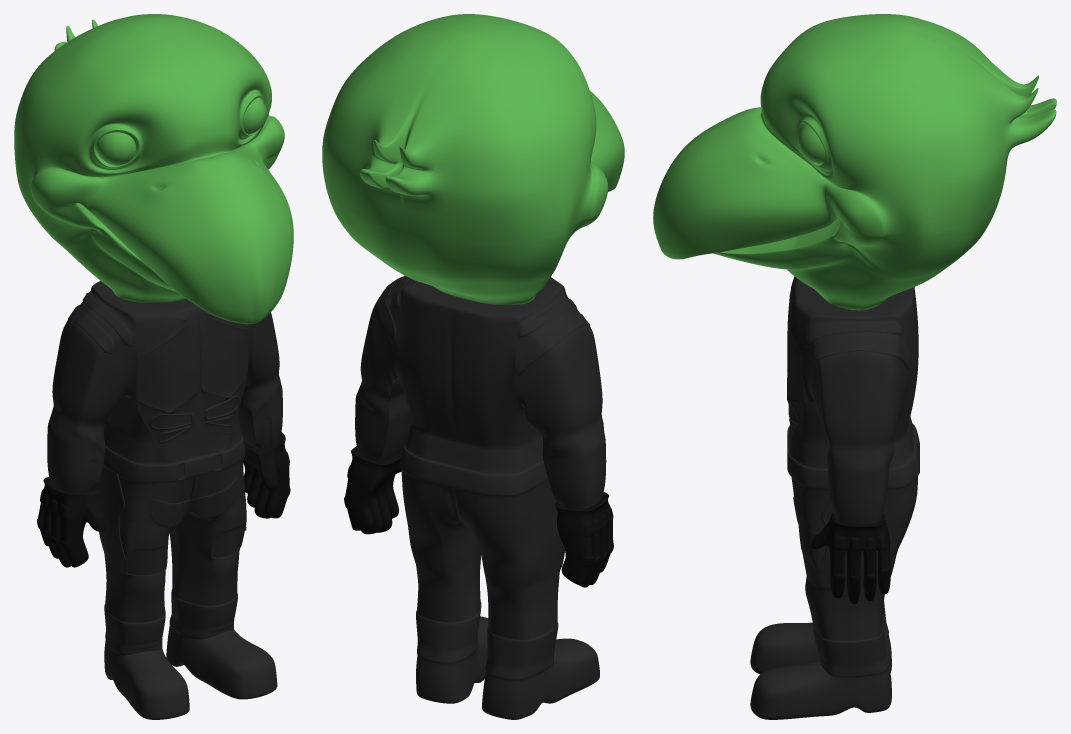
Rendered from vittata_base.glb.
3 renders of one model, left to right at view 1: azimuth 30°, elevation 25°; view 2: azimuth 150°, elevation 25°; view 3: azimuth 270°, elevation 25°, orthographic. The views are drawn at different scales.
Visible parts, largest first — view 1: Cuerpo, Amazon parrots, Brazo.000, Brazo.001; view 2: Cuerpo, Amazon parrots, Brazo.000, Brazo.001; view 3: Amazon parrots, Cuerpo, Brazo.001.
Part boxes in pixels (<box>): Cuerpo: <box>47,281,282,719</box>; Amazon parrots: <box>14,14,293,324</box>; Brazo.000: <box>37,477,105,567</box>; Brazo.001: <box>243,432,290,518</box>; Cuerpo: <box>355,276,606,719</box>; Amazon parrots: <box>322,14,624,305</box>; Brazo.000: <box>555,492,613,587</box>; Brazo.001: <box>344,446,402,534</box>; Amazon parrots: <box>653,14,1056,310</box>; Cuerpo: <box>750,276,919,719</box>; Brazo.001: <box>811,512,890,604</box>.
Bounding box in the file's own units: 3.7 × 9.34 × 5.17.
